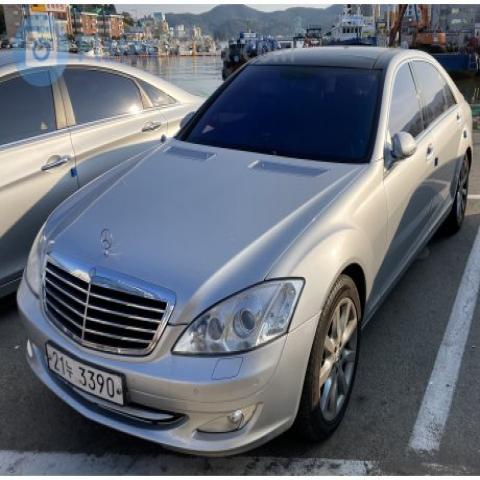LP: (39, 329, 139, 415)
